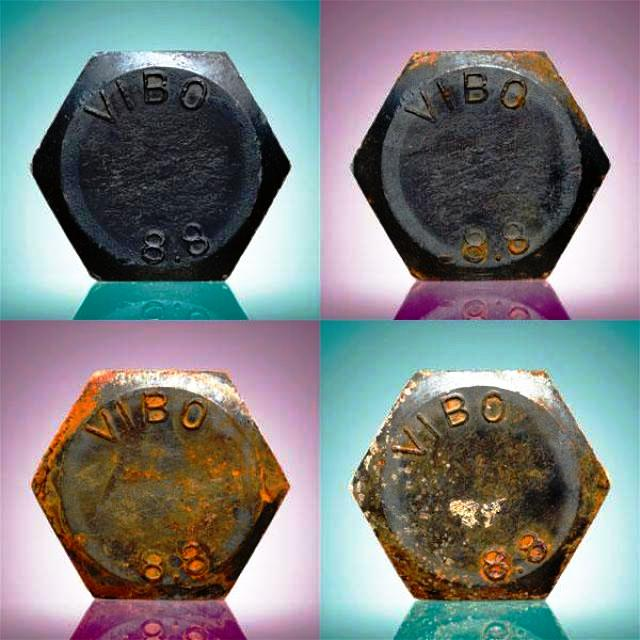Corrosion: (350, 370, 614, 605), (30, 370, 290, 603), (478, 51, 587, 122), (394, 50, 446, 83), (507, 235, 533, 259), (409, 264, 429, 282), (510, 93, 526, 108)
